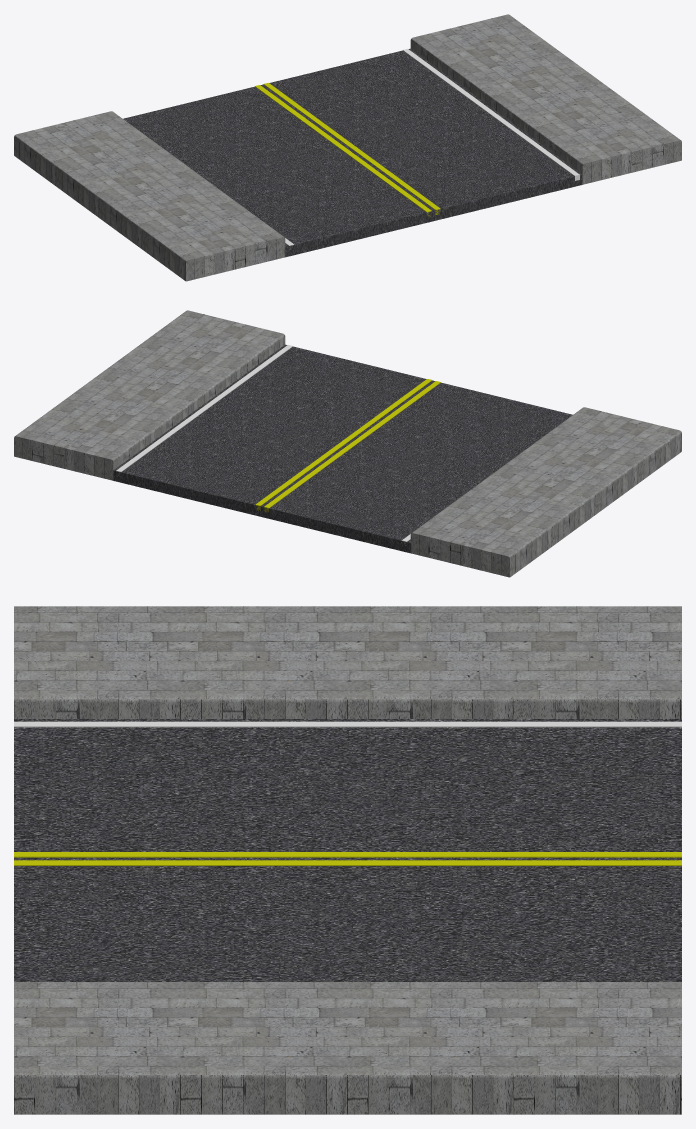
File: Yellow & White Lines Street.fbx
3 views of the same model, one above another, from view 1: azimuth 30°, elevation 25°; view 2: azimuth 150°, elevation 25°; view 3: azimuth 270°, elevation 25° (orthographic). The views are drawn at different scales.
Visible parts, largest first — view 1: pCube1, pasted__pasted__pCube1, pasted__pCube1, pasted__pasted__pasted__pasted__pCube2, pasted__pCube2, pCube2; view 2: pCube1, pasted__pasted__pCube1, pasted__pCube1, pasted__pCube2, pCube2, pasted__pasted__pasted__pasted__pCube2; view 3: pCube1, pasted__pCube1, pasted__pasted__pCube1, pasted__pasted__pasted__pCube2, pCube2, pasted__pCube2.
Boxes of the visible parts, x1,y1,x2,y2 form: pCube1: (123,48,582,257); pasted__pasted__pCube1: (14,111,285,281); pasted__pCube1: (410,14,681,184); pasted__pasted__pasted__pasted__pCube2: (403,49,579,180); pasted__pCube2: (263,83,440,214); pCube2: (255,85,431,216); pCube1: (113,344,572,553); pasted__pasted__pCube1: (410,407,681,577); pasted__pCube1: (14,310,285,480); pasted__pCube2: (255,379,432,510); pCube2: (264,381,440,512); pasted__pasted__pasted__pasted__pCube2: (116,345,292,476); pCube1: (14,719,681,981); pasted__pCube1: (14,982,681,1114); pasted__pasted__pCube1: (14,606,681,718); pasted__pasted__pasted__pCube2: (14,721,681,727); pCube2: (14,852,681,857); pasted__pCube2: (14,860,681,865).
Bounding box in the file's own units: 9.99 × 0.401 × 6.
Materials: 7 (3 with a texture image).
